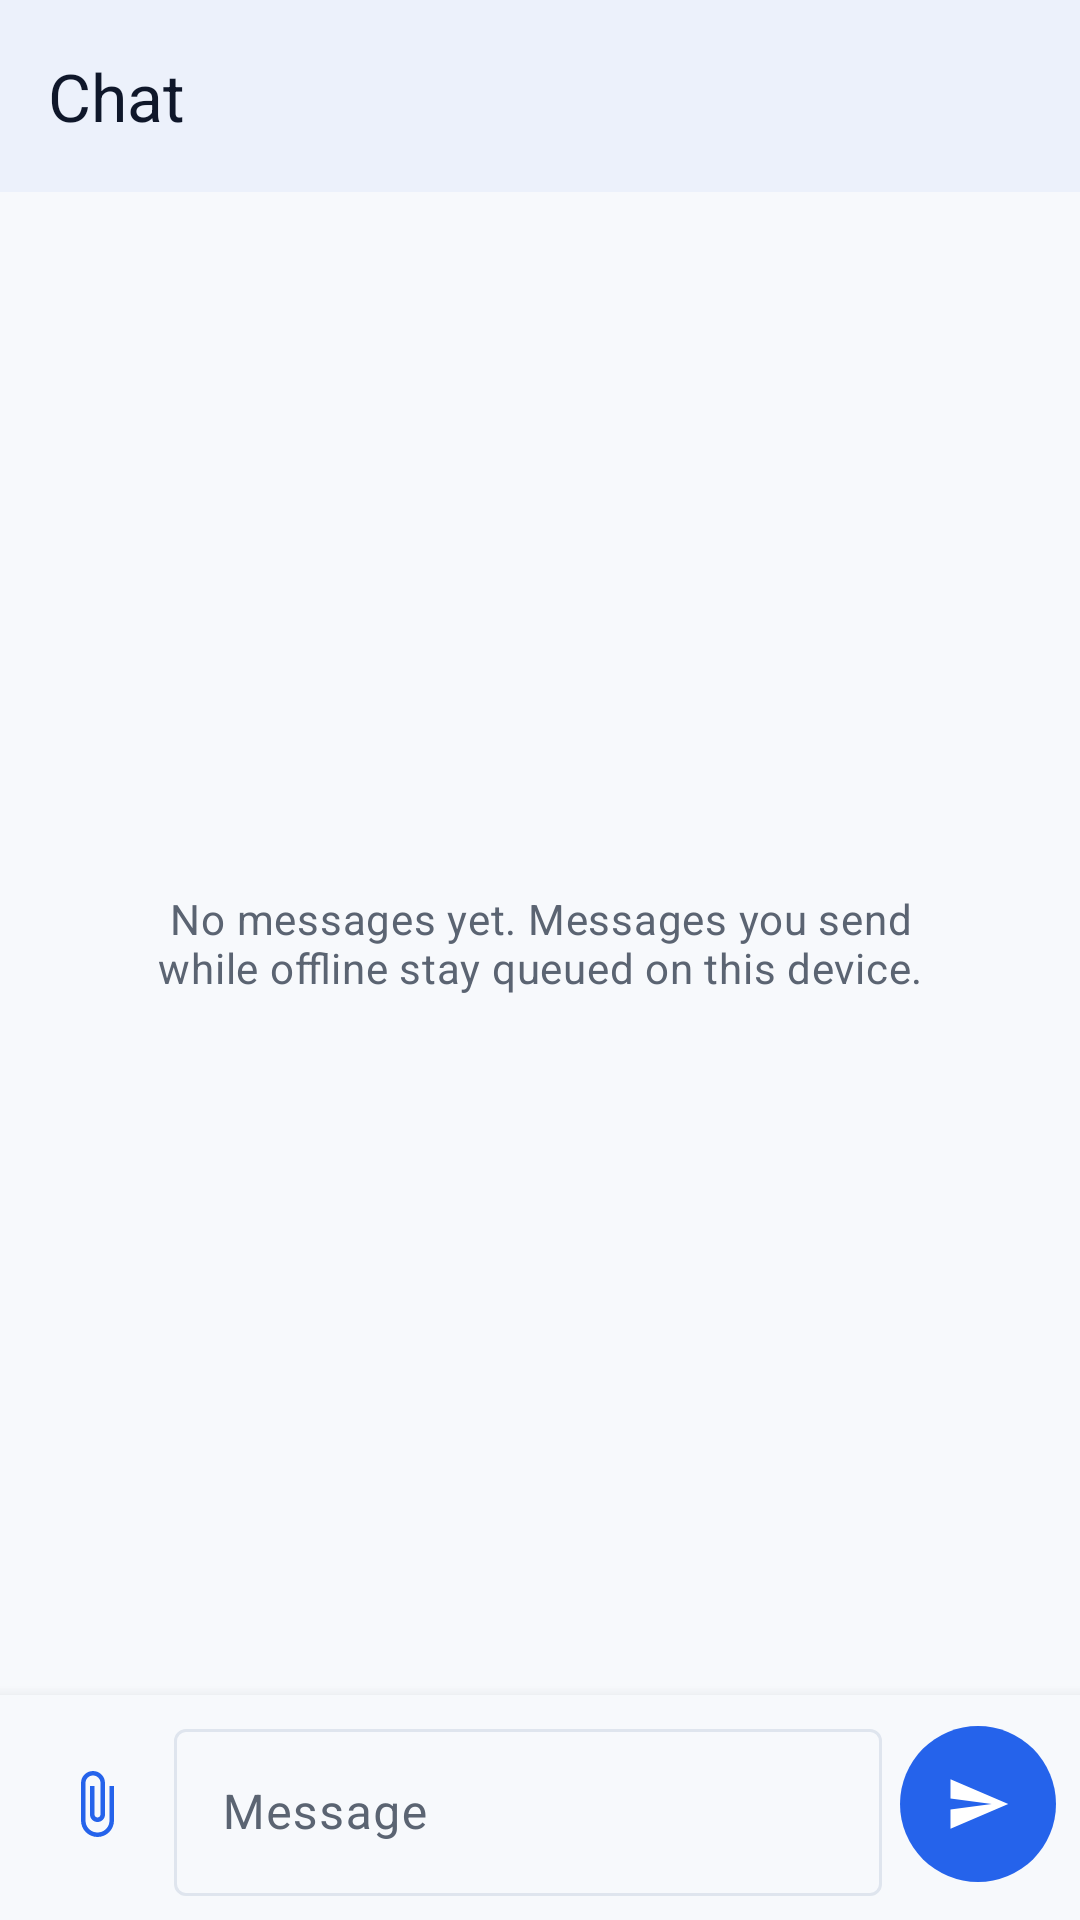

Where to tap for icons on this 1080w x 1920h app screen, as [x,y]:
Attach a file: [97,1804]
Send: [978,1804]
